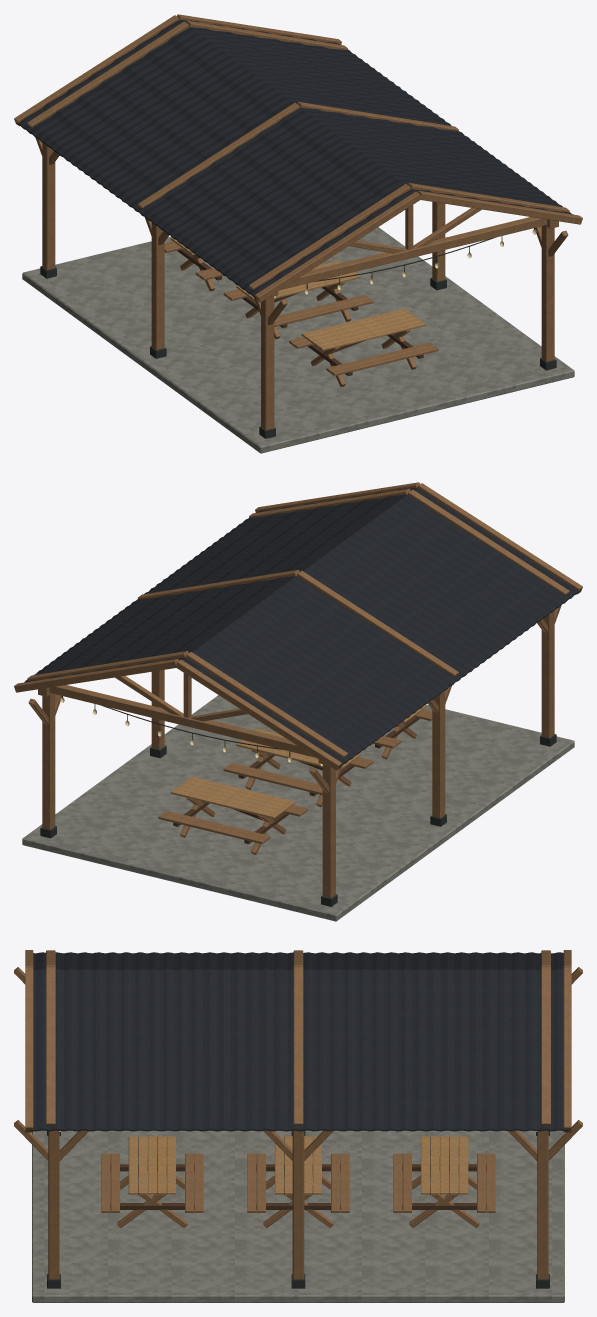
The model's file is canopy.glb.
The picture shows the model from 3 angles, top to bottom: view 1: azimuth 30°, elevation 25°; view 2: azimuth 150°, elevation 25°; view 3: azimuth 270°, elevation 25°; orthographic projection. The views are drawn at different scales.
Parts seen in each view (by area): view 1: Canopy_structure, picnic_table_Mesh.001, picnic_table_Mesh.002, picnic_table_Mesh.003; view 2: Canopy_structure, picnic_table_Mesh.003, picnic_table_Mesh.002, picnic_table_Mesh.001; view 3: Canopy_structure, picnic_table_Mesh.001, picnic_table_Mesh.003, picnic_table_Mesh.002.
Part boxes in pixels (bbox=[...]): Canopy_structure: bbox=[14, 14, 582, 453]; picnic_table_Mesh.001: bbox=[289, 308, 438, 386]; picnic_table_Mesh.002: bbox=[223, 260, 373, 338]; picnic_table_Mesh.003: bbox=[164, 237, 223, 291]; Canopy_structure: bbox=[14, 482, 582, 921]; picnic_table_Mesh.003: bbox=[158, 776, 307, 854]; picnic_table_Mesh.002: bbox=[223, 728, 373, 806]; picnic_table_Mesh.001: bbox=[373, 705, 432, 759]; Canopy_structure: bbox=[14, 950, 582, 1302]; picnic_table_Mesh.001: bbox=[101, 1136, 203, 1227]; picnic_table_Mesh.003: bbox=[393, 1136, 495, 1227]; picnic_table_Mesh.002: bbox=[247, 1136, 349, 1227].
Size of the model in its own units: 6.6 by 4.37 by 8.96.
Materials: 8 (8 with a texture image).
